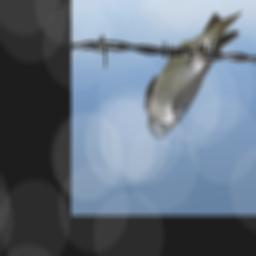Swallow: (143, 12, 241, 138)
